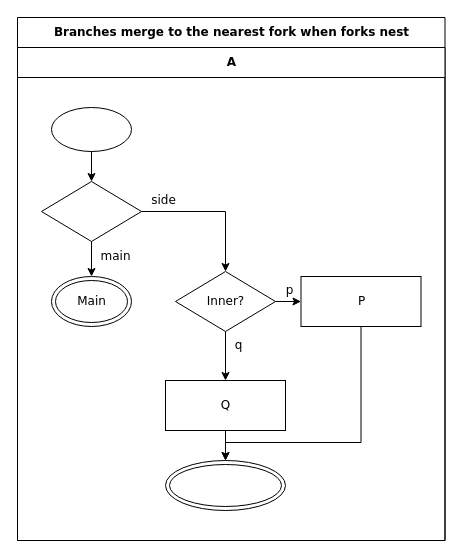
Some shapes in this 463 by 558 pixel diagram are drawn without their labels. The shapes that lost their labels are listed below. From the top down, each one's centre as x and y in pixels, then its label:
At (x=91, y=129): "Enter".
At (x=91, y=211): "Outer?".
At (x=225, y=485): "Inner join".
